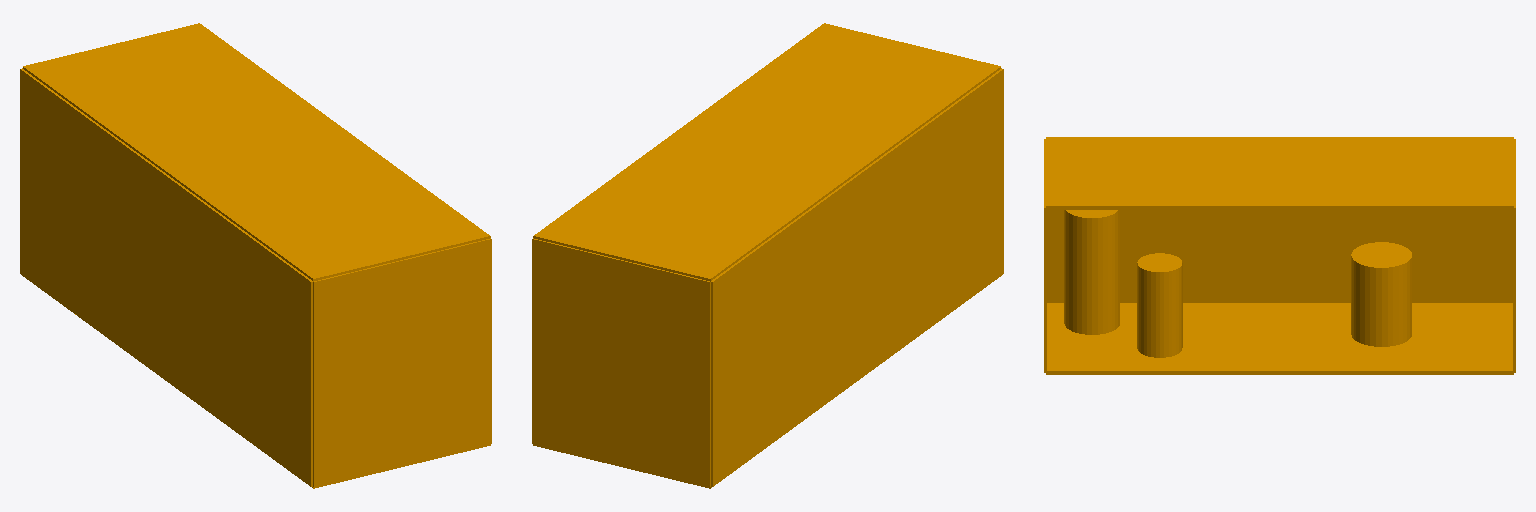
robot.urdf — syn_can_cabinet_2869:
<?xml version="1.0" ?>
<robot name="syn_can_cabinet_2869">
    <link concave="yes" name="base_link">
        <inertial>
            <origin rpy="0 0 0" xyz="0 0 0"/>
            <mass value="0.0"/>
            <inertia ixx="1e-08" ixy="0" ixz="0" iyy="1e-08" iyz="0" izz="1e-08"/>
        </inertial>
        <visual>
            <origin xyz="0 0 0" rpy="0 0 0" />
            <geometry>
                <mesh filename="syn_can_cabinet_2869.obj" scale="1.000000 1.000000 1.000000"/>
            </geometry>         
        </visual>

        <collision concave="yes">
            <origin xyz="0 0 0" rpy="0 0 0"/>
            <geometry>
                <mesh filename="syn_can_cabinet_2869.obj" scale="1.000000 1.000000 1.000000"/>
            </geometry>
        </collision>
    </link>
</robot>
    

--- What the picture shows (computed from the rendered views, not written in the file) ---
3 views of the same robot in one strip: view 1: azimuth 30°, elevation 25°; view 2: azimuth 150°, elevation 25°; view 3: azimuth 270°, elevation 25° (orthographic).
Model syn_can_cabinet_2869 with 1 links and 0 joints (none), rooted at base_link, posed every joint at zero.
Visible links, largest first — view 1: base_link; view 2: base_link; view 3: base_link.
Link boxes in pixels (x1,y1,x2,y2): base_link: (20,23,491,488); base_link: (532,23,1003,488); base_link: (1044,137,1515,374).
Size in the robot's own frame: 0.1717 by 0.4852 by 0.1918 metres.
Meshes: 1 distinct files referenced, 1 mesh visuals loaded (1 OBJ).
